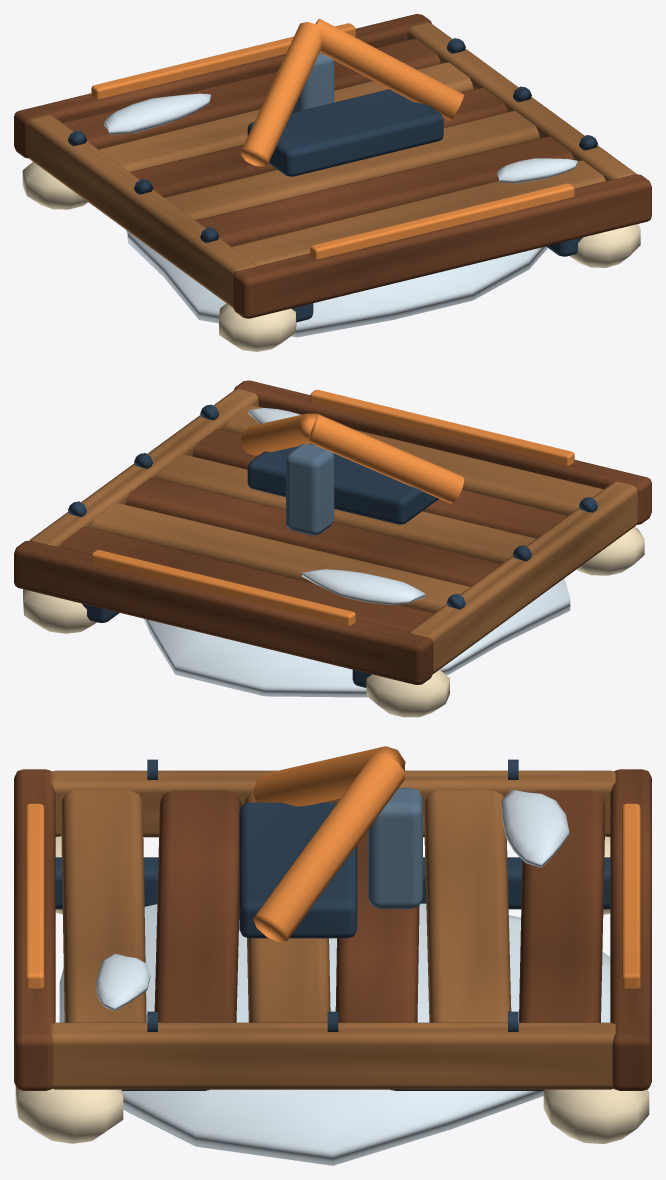
File: pad_upgrade.glb
3 renders of one model, top to bottom at view 1: azimuth 30°, elevation 25°; view 2: azimuth 150°, elevation 25°; view 3: azimuth 270°, elevation 25°, orthographic. The views are drawn at different scales.
Visible parts, largest first — view 1: pad_upgrade; view 2: pad_upgrade; view 3: pad_upgrade.
Part boxes in pixels (x1,y1,x2,y2): pad_upgrade: (14,14,651,351); pad_upgrade: (14,380,651,717); pad_upgrade: (14,746,651,1165).
Bounding box in the file's own units: 1.91 × 0.9128 × 1.84.
